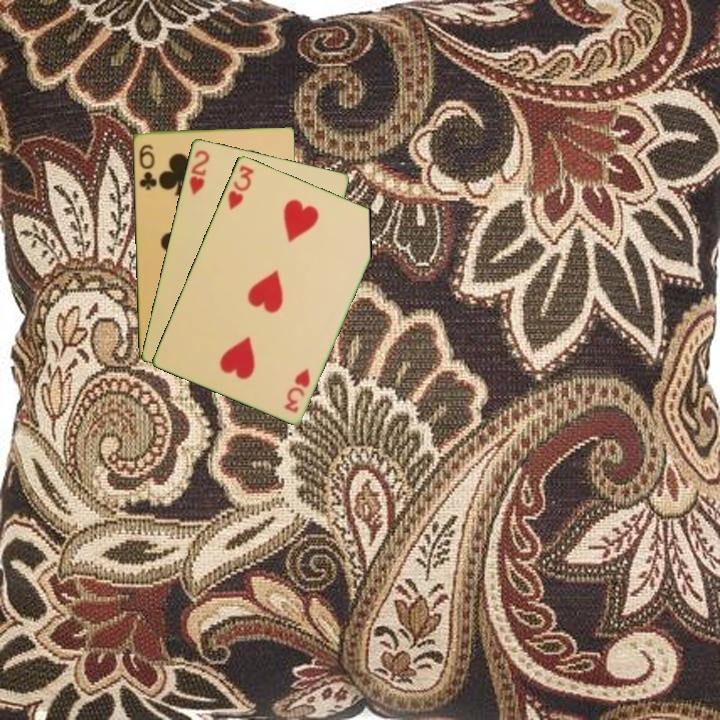2h: (185, 146, 212, 198)
3h: (224, 161, 257, 212), (280, 364, 313, 415)
6c: (135, 140, 159, 193)
